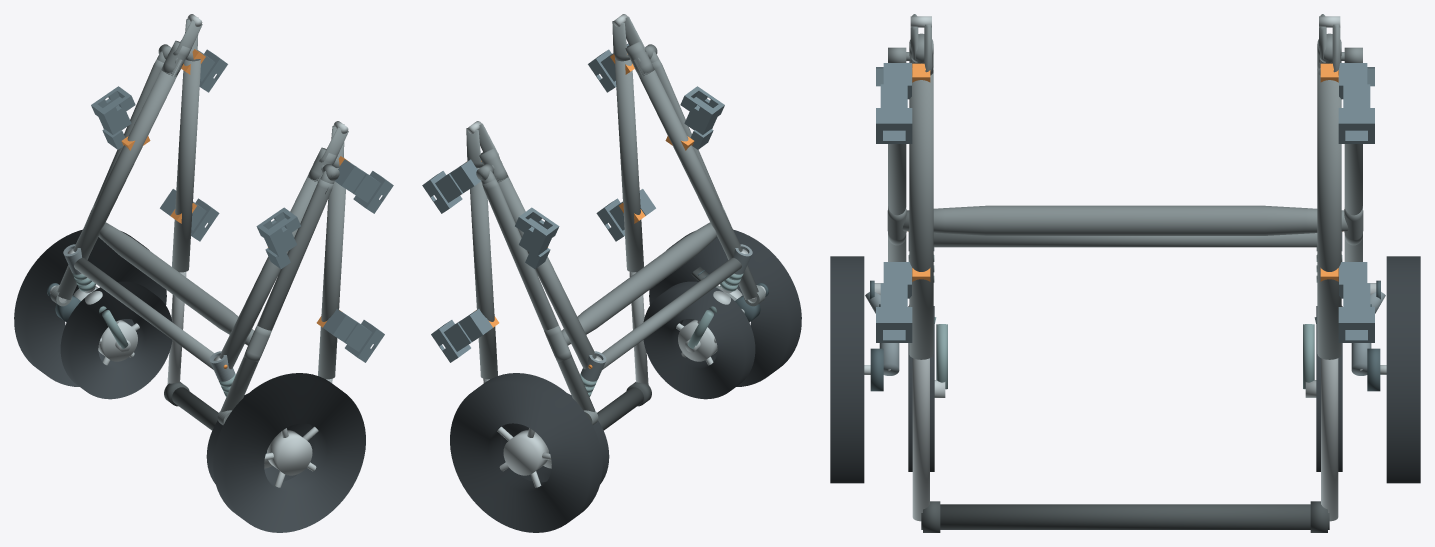
File: w650_state3_wheel_M.glb
3 renders of one model, left to right at view 1: azimuth 30°, elevation 25°; view 2: azimuth 150°, elevation 25°; view 3: azimuth 270°, elevation 25°, orthographic. The views are drawn at different scales.
Visible parts, largest first — view 1: RL_tire.011, FR_tire.011, RR_tire.011, main_upper_1.012, V46_rearbar.011, main_lower_1.012, V46_rear_leg_-1.011, main_upper_-1.012, main_lower_-1.012, front_fixed_round_tube.011, Universal_Cabin_Receiver_H_-1, Universal_Cabin_Receiver_M_-1 (+13 smaller); view 2: RR_tire.011, FL_tire.011, RL_tire.011, main_upper_-1.012, V46_rearbar.011, main_lower_-1.012, V46_rear_leg_1.011, main_upper_1.012, main_lower_1.012, front_fixed_round_tube.011, Universal_Cabin_Receiver_H_1, Universal_Cabin_Receiver_M_1 (+16 smaller); view 3: V46_rearbar.011, round_handle.013, RL_tire.011, RR_tire.011, main_upper_1.012, main_upper_-1.012, front_fixed_round_tube.011, handle_slider_1.013, handle_slider_-1.013, Universal_Cabin_Receiver_M_-1, Universal_Cabin_Receiver_M_1, Universal_Cabin_Receiver_H_1 (+7 smaller).
Part boxes in pixels (x1=…): RL_tire.011: x1=213, y1=373, x2=365, y2=532; FR_tire.011: x1=60, y1=281, x2=172, y2=399; RR_tire.011: x1=14, y1=229, x2=166, y2=386; main_upper_1.012: x1=172, y1=59, x2=200, y2=272; V46_rearbar.011: x1=98, y1=222, x2=253, y2=345; main_lower_1.012: x1=73, y1=59, x2=182, y2=259; V46_rear_leg_-1.011: x1=221, y1=179, x2=333, y2=412; main_upper_-1.012: x1=318, y1=168, x2=345, y2=379; main_lower_-1.012: x1=219, y1=174, x2=322, y2=369; front_fixed_round_tube.011: x1=74, y1=257, x2=214, y2=369; Universal_Cabin_Receiver_H_-1: x1=323, y1=309, x2=384, y2=362; Universal_Cabin_Receiver_M_-1: x1=335, y1=159, x2=393, y2=213; RR_tire.011: x1=450, y1=373, x2=602, y2=532; FL_tire.011: x1=643, y1=281, x2=755, y2=399; RL_tire.011: x1=649, y1=229, x2=801, y2=386; main_upper_-1.012: x1=615, y1=59, x2=643, y2=272; V46_rearbar.011: x1=562, y1=222, x2=717, y2=345; main_lower_-1.012: x1=633, y1=59, x2=742, y2=259; V46_rear_leg_1.011: x1=482, y1=179, x2=594, y2=412; main_upper_1.012: x1=470, y1=168, x2=497, y2=379; main_lower_1.012: x1=493, y1=174, x2=596, y2=369; front_fixed_round_tube.011: x1=601, y1=257, x2=741, y2=369; Universal_Cabin_Receiver_H_1: x1=431, y1=309, x2=492, y2=362; Universal_Cabin_Receiver_M_1: x1=422, y1=159, x2=480, y2=213; V46_rearbar.011: x1=902, y1=205, x2=1348, y2=235; round_handle.013: x1=921, y1=504, x2=1329, y2=529; RL_tire.011: x1=830, y1=256, x2=864, y2=483; RR_tire.011: x1=1386, y1=256, x2=1420, y2=483; main_upper_1.012: x1=1317, y1=72, x2=1341, y2=359; main_upper_-1.012: x1=909, y1=72, x2=933, y2=359; front_fixed_round_tube.011: x1=933, y1=233, x2=1317, y2=247; handle_slider_1.013: x1=1321, y1=358, x2=1338, y2=521; handle_slider_-1.013: x1=912, y1=358, x2=929, y2=521; Universal_Cabin_Receiver_M_-1: x1=876, y1=63, x2=912, y2=143; Universal_Cabin_Receiver_M_1: x1=1338, y1=63, x2=1374, y2=143; Universal_Cabin_Receiver_H_1: x1=1338, y1=262, x2=1374, y2=342.
Size of the model in its own units: 0.3941 by 0.7726 by 0.781.
